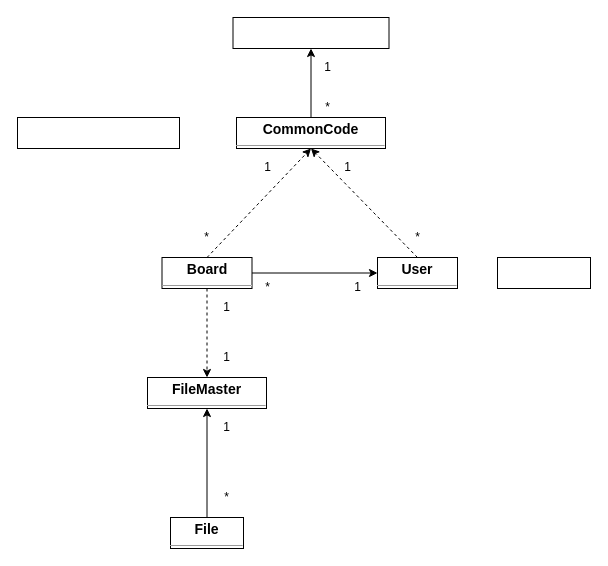
Some shapes in this 608 by 566 pixel diagram are drawn without their labels. Here are the shapes that lost their labels. From the top down, the centre of each, then its label:
At (310,32): "CommonGroup".
At (98,132): "CommonCodeId".
At (543,272): "UserId".
